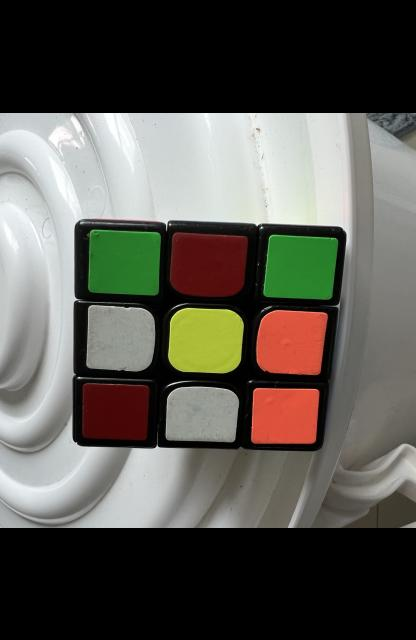Green: (263, 233, 338, 298), (88, 229, 160, 295)
Orange: (256, 309, 328, 374), (252, 387, 319, 442)
Red: (170, 231, 248, 296), (82, 383, 149, 439)
White: (86, 304, 156, 371), (166, 385, 239, 441)
Yellow: (168, 307, 244, 372)
